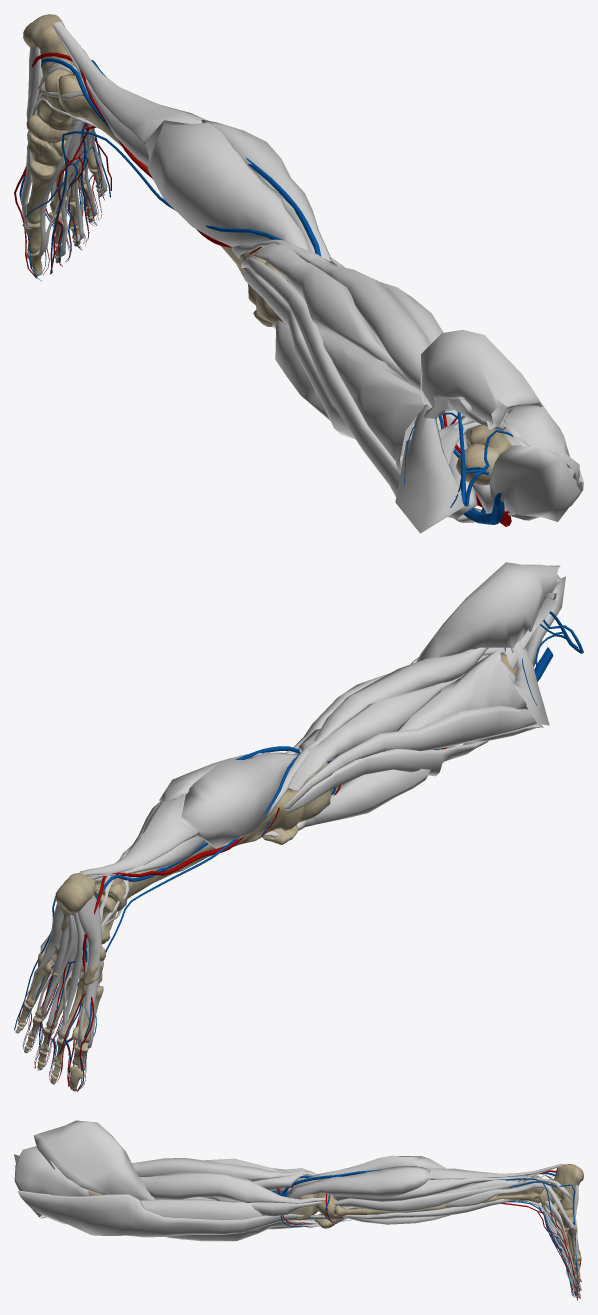
File: Knee (1).fbx
3 views of the same model, one above another, from view 1: azimuth 30°, elevation 25°; view 2: azimuth 150°, elevation 25°; view 3: azimuth 270°, elevation 25° (orthographic). The views are drawn at different scales.
Visible parts, largest first — view 1: Rectus_Femoris_Muscle_Left_Untitled.698, Male_Skeletal_Femur_Left_Geo_Untitled.075, Circulatory_Veins_Geo_Untitled.239, Circulatory_Arteries_Geo_Untitled.683; view 2: Rectus_Femoris_Muscle_Left_Untitled.698, Male_Skeletal_Femur_Left_Geo_Untitled.075, Circulatory_Veins_Geo_Untitled.239, Circulatory_Arteries_Geo_Untitled.683; view 3: Rectus_Femoris_Muscle_Left_Untitled.698, Male_Skeletal_Femur_Left_Geo_Untitled.075, Circulatory_Veins_Geo_Untitled.239, Circulatory_Arteries_Geo_Untitled.683.
Boxes of the visible parts, left/top/right/bottom form: Rectus_Femoris_Muscle_Left_Untitled.698: left=21, top=21, right=583, bottom=533; Male_Skeletal_Femur_Left_Geo_Untitled.075: left=22, top=14, right=511, bottom=485; Circulatory_Veins_Geo_Untitled.239: left=19, top=45, right=513, bottom=524; Circulatory_Arteries_Geo_Untitled.683: left=14, top=52, right=511, bottom=526; Rectus_Femoris_Muscle_Left_Untitled.698: left=21, top=562, right=565, bottom=1071; Male_Skeletal_Femur_Left_Geo_Untitled.075: left=15, top=654, right=516, bottom=1091; Circulatory_Veins_Geo_Untitled.239: left=14, top=611, right=583, bottom=1090; Circulatory_Arteries_Geo_Untitled.683: left=18, top=747, right=447, bottom=1091; Rectus_Femoris_Muscle_Left_Untitled.698: left=14, top=1120, right=579, bottom=1294; Male_Skeletal_Femur_Left_Geo_Untitled.075: left=88, top=1164, right=583, bottom=1298; Circulatory_Veins_Geo_Untitled.239: left=272, top=1169, right=580, bottom=1299; Circulatory_Arteries_Geo_Untitled.683: left=273, top=1170, right=581, bottom=1300.
Size of the model in its own units: 188 by 304 by 984.
